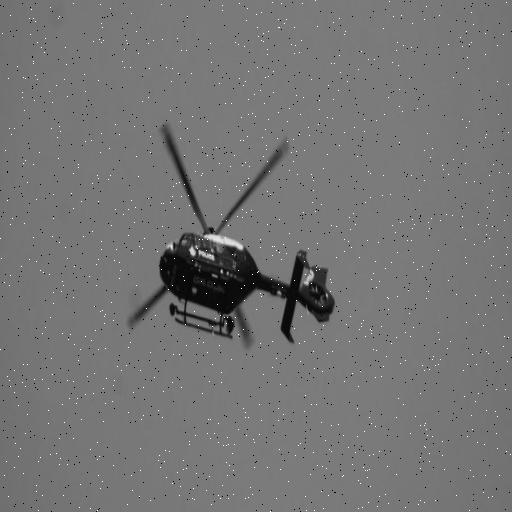helicopter: (126, 123, 339, 348)
